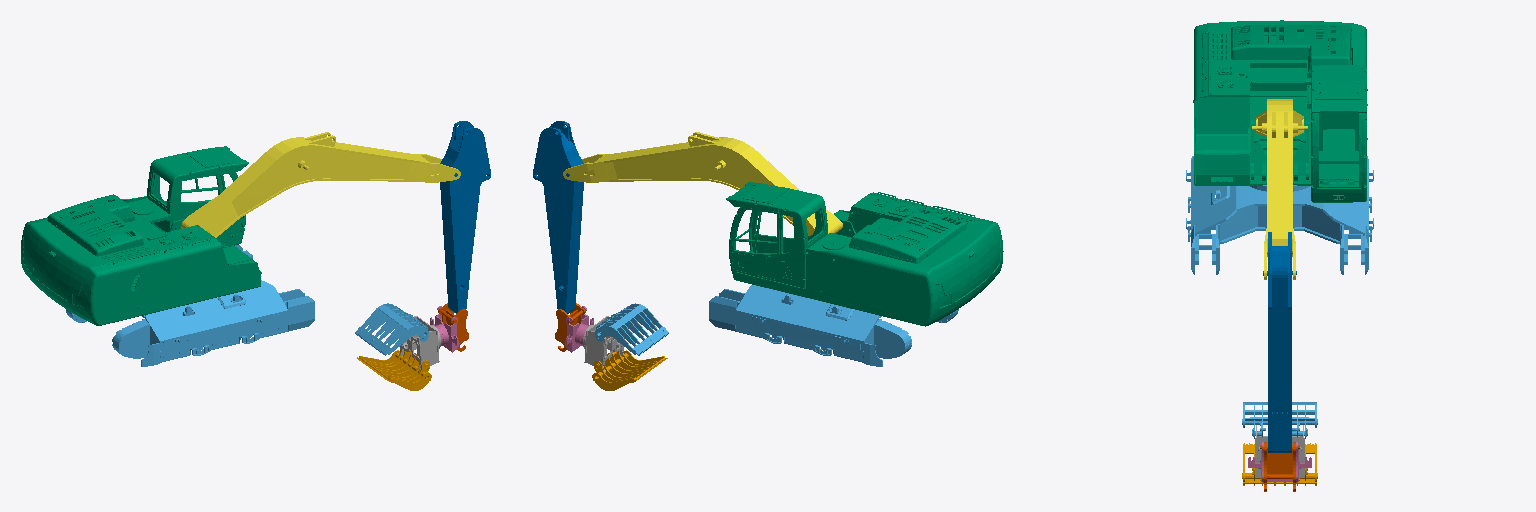
The robot description file, URDF, robot "excavator_urdf_ros2_ready":
<?xml version="1.0" encoding="UTF-8"?>
<!--
  test4.urdf
  Mini excavator robot description for ROS 2 / ros2_control.
  This variant uses the edited test4 meshes.  The default visual pose is
  preserved while tilt/tool joint states read +90/-90 degrees.

  Unit conventions (URDF standard):
    Length  : metres
    Angle   : radians
    Mass    : kilograms
    Inertia : kg·m²
    Force   : N  |  Torque : N·m  |  Velocity : rad/s

  Kinematic chain (parent → child):
    world (fixed ground frame)
      └─ world_to_excavator → excavator         [fixed, +0.09 m Z offset]
           └─ revolute_carriage → upper_carriage [continuous, Z-axis yaw]
                └─ revolute_lift → lift_boom     [revolute,   Y-axis pitch]
                     └─ revolute_tilt → tilt_boom [revolute,  Y-axis pitch]
                          └─ revolute_tool → tool_body [revolute, Y-axis pitch]
                               └─ gripper_to_tool (fixed) → gripper_mount
                                    └─ revolute_gripper → gripper_frame [continuous, Z-axis spin]
                                         ├─ revolute_claw_1 → gripper_claw_1
                                         └─ revolute_claw_2 → gripper_claw_2

  Collision meshes:
    Visual elements use *_visuals_Mesh.obj files.
    Collision elements use matching *_colliders_Mesh.obj files.
    Mesh vertex data is baked into each link frame: X front, Y left, Z up.
    These are still mesh collisions; simplify them if simulation performance
    or contact stability needs improvement.

  ros2_control:
    Hardware plugin : mock_components/GenericSystem  (swap for real hw plugin)
    Interfaces      : position command + position/velocity state on all joints
    Initial values  : tilt/tool start at +90/-90 deg; other joints start at 0 rad
-->
<robot name="excavator_urdf_ros2_ready">

  <!-- ═══════════════════════════════════════════════════════════════
       JOINTS
       All revolute velocity limits set to 10 RPM = 1.0472 rad/s.
       Effort limits are nominal placeholders; tune per actuator spec.
       ═══════════════════════════════════════════════════════════════ -->

  <!-- Fixed ground attachment: raises the lower-carriage/base link above the world plane -->
  <joint name="world_to_excavator" type="fixed">
    <origin xyz="0.0 0.0 0.09" rpy="0.0 0.0 0.0"/>
    <parent link="world"/>
    <child link="excavator"/>
  </joint>

  <!-- Slewing ring: full continuous rotation of upper carriage on base (Z) -->
  <joint name="revolute_carriage" type="continuous">
    <origin xyz="0.0 0.0 0.0" rpy="0.0 0.0 0.0"/>
    <parent link="excavator"/>
    <child link="upper_carriage"/>
    <axis xyz="0.0 0.0 1.0"/>
    <!-- Continuous joints have no position limits; velocity = 10 RPM -->
    <limit effort="10000.0" velocity="1.0472"/>
  </joint>
  
  <!-- Lift boom: shoulder pitch in the zeroed test4 frame -->
  <joint name="revolute_lift" type="revolute">
    <origin xyz="0.0165 0.0 0.0785" rpy="0.0 0.0 0.0"/>
    <parent link="upper_carriage"/>
    <child link="lift_boom"/>
    <axis xyz="0.0 1.0 0.0"/>
    <limit lower="-0.8726646" upper="0.5235988" effort="10000.0" velocity="1.0472"/>
  </joint>

  <!-- Tilt boom: elbow pitch; limits are shifted for the rotated test4 mesh -->
  <joint name="revolute_tilt" type="revolute">
    <origin xyz="0.4677 0.0 0.0" rpy="0.0 -1.5707963 0.0"/>
    <parent link="lift_boom"/>
    <child link="tilt_boom"/>
    <axis xyz="0.0 1.0 0.0"/>
    <limit lower="0.4974188" upper="2.5220007" effort="10000.0" velocity="1.0472"/>
  </joint>

  <!-- Tool pitch: wrist pitch; zero now represents the edited test4 pose -->
  <joint name="revolute_tool" type="revolute">
    <origin xyz="0.0 0.0 -0.25" rpy="0.0 1.5707963 0.0"/>
    <parent link="tilt_boom"/>
    <child link="tool_body"/>
    <axis xyz="0.0 1.0 0.0"/>
    <limit lower="-2.3543262" upper="0.3509342" effort="10000.0" velocity="1.0472"/>
  </joint>

  <!-- Fixed wrist bracket: attaches gripper_mount rigidly to tool_body -->
  <joint name="gripper_to_tool" type="fixed">
    <origin xyz="0.047 0.0 -0.019" rpy="0.0 0.0 0.0"/>
    <parent link="tool_body"/>
    <child link="gripper_mount"/>
  </joint>

  <!-- Gripper spin: child frame aligned with gripper_mount, spins around Z -->
  <joint name="revolute_gripper" type="continuous">
    <origin xyz="-0.0105 0.0 -0.025" rpy="0.0 0.0 0.0"/>
    <parent link="gripper_mount"/>
    <child link="gripper_frame"/>
    <axis xyz="0.0 0.0 1.0"/>
    <!-- Continuous joints have no position limits; velocity = 10 RPM -->
    <limit effort="10000.0" velocity="1.0472"/>
  </joint>

  <!-- Gripper claw 1: front-side claw; hinge axis remains lateral in the aligned frame -->
  <joint name="revolute_claw_1" type="revolute">
    <origin xyz="0.025 0.0 -0.038" rpy="0.0 0.0 0.0"/>
    <parent link="gripper_frame"/>
    <child link="gripper_claw_1"/>
    <axis xyz="0.0 -1.0 0.0"/>
    <limit lower="-0.26" upper="0.8726646" effort="10000.0" velocity="1.0472"/>
  </joint>

  <!-- Gripper claw 2: rear-side claw; mirrors claw 1 -->
  <joint name="revolute_claw_2" type="revolute">
    <origin xyz="-0.025 0.0 -0.038" rpy="0.0 0.0 0.0"/>
    <parent link="gripper_frame"/>
    <child link="gripper_claw_2"/>
    <axis xyz="0.0 -1.0 0.0"/>
    <limit lower="-0.8726646" upper="0.26" effort="10000.0" velocity="1.0472"/>
  </joint>

  <!-- ═══════════════════════════════════════════════════════════════
       LINKS
       Each link carries: inertial, visual (OBJ), and collision (OBJ).
       Collision entries point at the *_colliders_Mesh.obj files in meshes/.
       ═══════════════════════════════════════════════════════════════ -->

  <!-- World / ground reference frame. The excavator base is fixed 0.09 m above it. -->
  <link name="world"/>

  <!-- Base link: lower chassis / tracks, raised from world by world_to_excavator -->
  <link name="excavator">
    <inertial>
      <origin xyz="0.0045939 -0.0001728 -0.0382546" rpy="0.0 0.0 0.0"/>
      <mass value="6.5"/>
      <inertia ixx="0.049442"  ixy="0.0005321"  ixz="0.0005431"
               iyy="0.0529756" iyz="-0.0000344"
               izz="0.0970931"/>
    </inertial>
    <visual>
      <!-- Mesh is baked into the link frame: X front, Y left, Z up -->
      <origin xyz="0.0 0.0 0.0" rpy="0.0 0.0 0.0"/>
      <geometry>
        <mesh filename="meshes/lower_carriage_visuals_Mesh.obj" scale="1.0 1.0 1.0"/>
      </geometry>
    </visual>
    <collision>
      <!-- Mesh collider; replace with convex/primitive geometry if needed -->
      <origin xyz="0.0 0.0 0.0" rpy="0.0 0.0 0.0"/>
      <geometry>
        <mesh filename="meshes/lower_carriage_colliders_Mesh.obj" scale="1.0 1.0 1.0"/>
      </geometry>
    </collision>
  </link>
 
 <!-- Upper carriage: rotating superstructure (cabin, engine, arm base) -->
  <link name="upper_carriage">
    <inertial>
      <origin xyz="-0.0821657 0.0013232 0.0460171" rpy="0.0 0.0 0.0"/>
      <mass value="8.1"/>
      <inertia ixx="0.0446463"  ixy="-0.0058658" ixz="0.0002102"
               iyy="0.0700401"  iyz="-0.0020342"
               izz="0.095637"/>
    </inertial>
    <visual>
      <!-- Mesh is baked into the link frame: X front, Y left, Z up -->
      <origin xyz="0.0 0.0 0.0" rpy="0.0 0.0 0.0"/>
      <geometry>
        <mesh filename="meshes/upper_carriage_visuals_Mesh.obj" scale="1.0 1.0 1.0"/>
      </geometry>
    </visual>
    <collision>
      <!-- Mesh collider; replace with convex/primitive geometry if needed -->
      <origin xyz="0.0 0.0 0.0" rpy="0.0 0.0 0.0"/>
      <geometry>
        <mesh filename="meshes/upper_carriage_colliders_Mesh.obj" scale="1.0 1.0 1.0"/>
      </geometry>
    </collision>
  </link> 

  <!-- Lift boom: main arm segment; old joint pitch is baked into the mesh frame -->
  <link name="lift_boom">
    <inertial>
      <origin xyz="0.199016 -0.000094 0.0479018" rpy="0.0 0.0 0.0"/>
      <mass value="1.15299"/>
      <inertia ixx="0.0014608" ixy="0.0000003" ixz="-0.0001859"
               iyy="0.021352"  iyz="0.0000042"
               izz="0.0201932"/>
    </inertial>
    <visual>
      <origin xyz="0.0 0.0 0.0" rpy="0.0 0.0 0.0"/>
      <geometry>
        <mesh filename="meshes/lift_boom_visuals_Mesh.obj" scale="1.0 1.0 1.0"/>
      </geometry>
    </visual>
    <collision>
      <!-- Mesh collider; replace with convex/primitive geometry if needed -->
      <origin xyz="0.0 0.0 0.0" rpy="0.0 0.0 0.0"/>
      <geometry>
        <mesh filename="meshes/lift_boom_colliders_Mesh.obj" scale="1.0 1.0 1.0"/>
      </geometry>
    </collision>
  </link>

  <!-- Tilt boom: forearm segment; edited mesh frame is used as the zero pose -->
  <link name="tilt_boom">
    <inertial>
      <origin xyz="0.018407 -0.00005 -0.0648918" rpy="0.0 0.0 0.0"/>
      <mass value="0.77626"/>
      <inertia ixx="0.0058744" ixy="0.0"  ixz="-0.0006279"
               iyy="0.0060442" iyz="0.0"
               izz="0.0003486"/>
    </inertial>
    <visual>
      <origin xyz="0.0 0.0 0.0" rpy="0.0 0.0 0.0"/>
      <geometry>
        <mesh filename="meshes/tilt_boom_visuals_Mesh.obj" scale="1.0 1.0 1.0"/>
      </geometry>
    </visual>
    <collision>
      <!-- Mesh collider; replace with convex/primitive geometry if needed -->
      <origin xyz="0.0 0.0 0.0" rpy="0.0 0.0 0.0"/>
      <geometry>
        <mesh filename="meshes/tilt_boom_colliders_Mesh.obj" scale="1.0 1.0 1.0"/>
      </geometry>
    </collision>
  </link>

  <!-- Tool body: quick-coupler / tool interface plate -->
  <link name="tool_body">
    <inertial>
      <origin xyz="0.0265998 0.0 -0.0101976" rpy="0.0 0.0 0.0"/>
      <mass value="0.137"/>
      <inertia ixx="0.0000403" ixy="0.0"       ixz="0.0000048"
               iyy="0.0000601" iyz="0.0"
               izz="0.0000815"/>
    </inertial>
    <visual>
      <origin xyz="0.0 0.0 0.0" rpy="0.0 0.0 0.0"/>
      <geometry>
        <mesh filename="meshes/tool_body_visuals_Mesh.obj" scale="1.0 1.0 1.0"/>
      </geometry>
    </visual>
    <collision>
      <!-- Mesh collider; replace with convex/primitive geometry if needed -->
      <origin xyz="0.0 0.0 0.0" rpy="0.0 0.0 0.0"/>
      <geometry>
        <mesh filename="meshes/tool_body_colliders_Mesh.obj" scale="1.0 1.0 1.0"/>
      </geometry>
    </collision>
  </link>

  <!-- Gripper mount: bracket that interfaces tool_body to gripper_frame -->
  <link name="gripper_mount">
    <inertial>
      <origin xyz="-0.01131 0.0 -0.01542" rpy="0.0 0.0 0.0"/>
      <mass value="0.06983"/>
      <inertia ixx="0.0000177" ixy="0.0"       ixz="0.0000006"
               iyy="0.0000127" iyz="0.0"
               izz="0.0000198"/>
    </inertial>
    <visual>
      <origin xyz="0.0 0.0 0.0" rpy="0.0 0.0 0.0"/>
      <geometry>
        <mesh filename="meshes/gripper_mount_visuals_Mesh.obj" scale="1.0 1.0 1.0"/>
      </geometry>
    </visual>
    <collision>
      <!-- Mesh collider; replace with convex/primitive geometry if needed -->
      <origin xyz="0.0 0.0 0.0" rpy="0.0 0.0 0.0"/>
      <geometry>
        <mesh filename="meshes/gripper_mount_colliders_Mesh.obj" scale="1.0 1.0 1.0"/>
      </geometry>
    </collision>
  </link>

  <!-- Gripper frame: structural ring connecting the two claws -->
  <link name="gripper_frame">
    <inertial>
      <origin xyz="0.0 0.0 -0.02261" rpy="0.0 0.0 0.0"/>
      <mass value="0.07586"/>
      <inertia ixx="0.0000572" ixy="0.0" ixz="0.0"
               iyy="0.0000321" iyz="0.0"
               izz="0.0000607"/>
    </inertial>
    <visual>
      <origin xyz="0.0 0.0 0.0" rpy="0.0 0.0 0.0"/>
      <geometry>
        <mesh filename="meshes/gripper_frame_visuals_Mesh.obj" scale="1.0 1.0 1.0"/>
      </geometry>
    </visual>
    <collision>
      <!-- Mesh collider; replace with convex/primitive geometry if needed -->
      <origin xyz="0.0 0.0 0.0" rpy="0.0 0.0 0.0"/>
      <geometry>
        <mesh filename="meshes/gripper_frame_colliders_Mesh.obj" scale="1.0 1.0 1.0"/>
      </geometry>
    </collision>
  </link>

  <!-- Gripper claw 1 (front side in the aligned gripper frame) -->
  <link name="gripper_claw_1">
    <inertial>
      <origin xyz="0.0062462 0.00019 -0.0327046" rpy="0.0 0.0 0.0"/>
      <mass value="0.21596"/>
      <inertia ixx="0.0003253"  ixy="0.0000001" ixz="-0.0000481"
               iyy="0.0001736"  iyz="-0.0000012"
               izz="0.000232"/>
    </inertial>
    <visual>
      <origin xyz="0.0 0.0 0.0" rpy="0.0 0.0 0.0"/>
      <geometry>
        <mesh filename="meshes/gripper_claw_1_visuals_Mesh.obj" scale="1.0 1.0 1.0"/>
      </geometry>
    </visual>
    <collision>
      <!-- Mesh collider; replace with convex/primitive geometry if needed -->
      <origin xyz="0.0 0.0 0.0" rpy="0.0 0.0 0.0"/>
      <geometry>
        <mesh filename="meshes/gripper_claw_1_colliders_Mesh.obj" scale="1.0 1.0 1.0"/>
      </geometry>
    </collision>
  </link>

  <!-- Gripper claw 2 (rear side in the aligned gripper frame) -->
  <link name="gripper_claw_2">
    <inertial>
      <origin xyz="-0.0062462 -0.00019 -0.0327046" rpy="0.0 0.0 0.0"/>
      <mass value="0.21596"/>
      <inertia ixx="0.0003253"  ixy="0.0000001" ixz="0.0000481"
               iyy="0.0001736"  iyz="0.0000012"
               izz="0.000232"/>
    </inertial>
    <visual>
      <origin xyz="0.0 0.0 0.0" rpy="0.0 0.0 0.0"/>
      <geometry>
        <mesh filename="meshes/gripper_claw_2_visuals_Mesh.obj" scale="1.0 1.0 1.0"/>
      </geometry>
    </visual>
    <collision>
      <!-- Mesh collider; replace with convex/primitive geometry if needed -->
      <origin xyz="0.0 0.0 0.0" rpy="0.0 0.0 0.0"/>
      <geometry>
        <mesh filename="meshes/gripper_claw_2_colliders_Mesh.obj" scale="1.0 1.0 1.0"/>
      </geometry>
    </collision>
  </link>

  <!-- ═══════════════════════════════════════════════════════════════
       ROS 2 CONTROL
       Plugin : mock_components/GenericSystem  (for testing / sim)
       Replace with your real hardware plugin before deployment.

       All joints expose:
         - command interface : position
         - state interfaces  : position, velocity

       Initial positions use the current test4v4 default pose:
         lift  : 0.0 rad
         tilt  : 1.5707963 rad
         tool  : -1.5707963 rad
         rest  : 0.0 rad
       ═══════════════════════════════════════════════════════════════ -->
	   
  <ros2_control name="initial_positions" type="system">
    <hardware>
      <plugin>mock_components/GenericSystem</plugin>
    </hardware>

    <!-- Slewing ring - starts at home (0 rad) -->
    <joint name="revolute_carriage">
      <command_interface name="position"/>
      <state_interface name="position">
        <param name="initial_value">0</param>
      </state_interface>
      <state_interface name="velocity"/>
    </joint>

    <!-- Gripper claw 1 - starts closed (0 rad) -->
    <joint name="revolute_claw_1">
      <command_interface name="position"/>
      <state_interface name="position">
        <param name="initial_value">0</param>
      </state_interface>
      <state_interface name="velocity"/>
    </joint>

    <!-- Gripper claw 2 - starts closed (0 rad) -->
    <joint name="revolute_claw_2">
      <command_interface name="position"/>
      <state_interface name="position">
        <param name="initial_value">0</param>
      </state_interface>
      <state_interface name="velocity"/>
    </joint>

    <!-- Gripper spin - starts at home (0 rad) -->
    <joint name="revolute_gripper">
      <command_interface name="position"/>
      <state_interface name="position">
        <param name="initial_value">0</param>
      </state_interface>
      <state_interface name="velocity"/>
    </joint>

    <!-- Lift boom - starts at the zeroed test4 pose -->
    <joint name="revolute_lift">
      <command_interface name="position"/>
      <state_interface name="position">
        <param name="initial_value">0</param>
      </state_interface>
      <state_interface name="velocity"/>
    </joint>

    <!-- Tilt boom - starts at +90 deg while preserving the visual default pose -->
    <joint name="revolute_tilt">
      <command_interface name="position"/>
      <state_interface name="position">
        <param name="initial_value">1.5707963</param>
      </state_interface>
      <state_interface name="velocity"/>
    </joint>

    <!-- Tool pitch - starts at -90 deg while preserving the visual default pose -->
    <joint name="revolute_tool">
      <command_interface name="position"/>
      <state_interface name="position">
        <param name="initial_value">-1.5707963</param>
      </state_interface>
      <state_interface name="velocity"/>
    </joint>

  </ros2_control>

</robot>

<!--
  ═══════════════════════════════════════════════════════════════════════
  COLLISION MESH NOTES
  ═══════════════════════════════════════════════════════════════════════

  CURRENT STATE
  ─────────────
  Collision elements point at meshes/*_colliders_Mesh.obj files, separate
  from the visual meshes. These files may still be detailed mesh colliders,
  so simulation performance and contact stability can still improve with
  simpler geometry.

  RECOMMENDED SIMULATION CLEANUP
  ──────────────────────────────
    1. Replace complex collider OBJs with convex hulls or primitive shapes
       where accuracy is not critical.
    2. Keep each collision origin/rpy aligned with the matching visual and
       inertial frame.
    3. If collider filenames change, update the corresponding <collision>
       mesh filename in this file.
  ═══════════════════════════════════════════════════════════════════════
-->

--- Render facts (derived) ---
3 views of the same robot in one strip: view 1: azimuth 30°, elevation 25°; view 2: azimuth 150°, elevation 25°; view 3: azimuth 270°, elevation 25° (orthographic).
Robot: excavator_urdf_ros2_ready — 10 links, 9 joints (5 revolute, 2 continuous, 2 fixed); root link world; default pose: all joints at 0 but 1 set to mid-range because 0 is outside their limits (revolute_tilt = 1.51).
Links seen in each view (by area): view 1: upper_carriage, lift_boom, excavator, tilt_boom, gripper_claw_2, gripper_claw_1, gripper_frame, tool_body, gripper_mount; view 2: upper_carriage, excavator, lift_boom, tilt_boom, gripper_claw_2, gripper_claw_1, gripper_frame, tool_body, gripper_mount; view 3: upper_carriage, excavator, tilt_boom, lift_boom, gripper_claw_2, tool_body, gripper_claw_1, gripper_frame.
Boxes of the visible links, x1,y1,x2,y2 form: upper_carriage: (21,146,261,325); lift_boom: (181,132,460,237); excavator: (66,245,314,366); tilt_boom: (440,121,490,313); gripper_claw_2: (355,303,428,355); gripper_claw_1: (357,350,431,390); gripper_frame: (400,316,440,370); tool_body: (438,303,468,351); gripper_mount: (430,306,459,352); upper_carriage: (726,182,1003,326); excavator: (709,285,958,366); lift_boom: (563,132,842,235); tilt_boom: (533,121,583,313); gripper_claw_2: (595,303,668,355); gripper_claw_1: (592,350,667,390); gripper_frame: (583,316,624,370); tool_body: (555,303,585,351); gripper_mount: (564,306,593,352); upper_carriage: (1193,20,1367,202); excavator: (1186,156,1373,274); tilt_boom: (1263,232,1296,452); lift_boom: (1252,99,1307,279); gripper_claw_2: (1242,402,1317,438); tool_body: (1260,442,1299,491); gripper_claw_1: (1242,443,1317,485); gripper_frame: (1255,425,1304,477).
Bounding box of the posed robot: 0.808 × 0.25 × 0.4652 m (x, y, z).
9 mesh visuals loaded from 9 distinct referenced files (9 OBJ).
